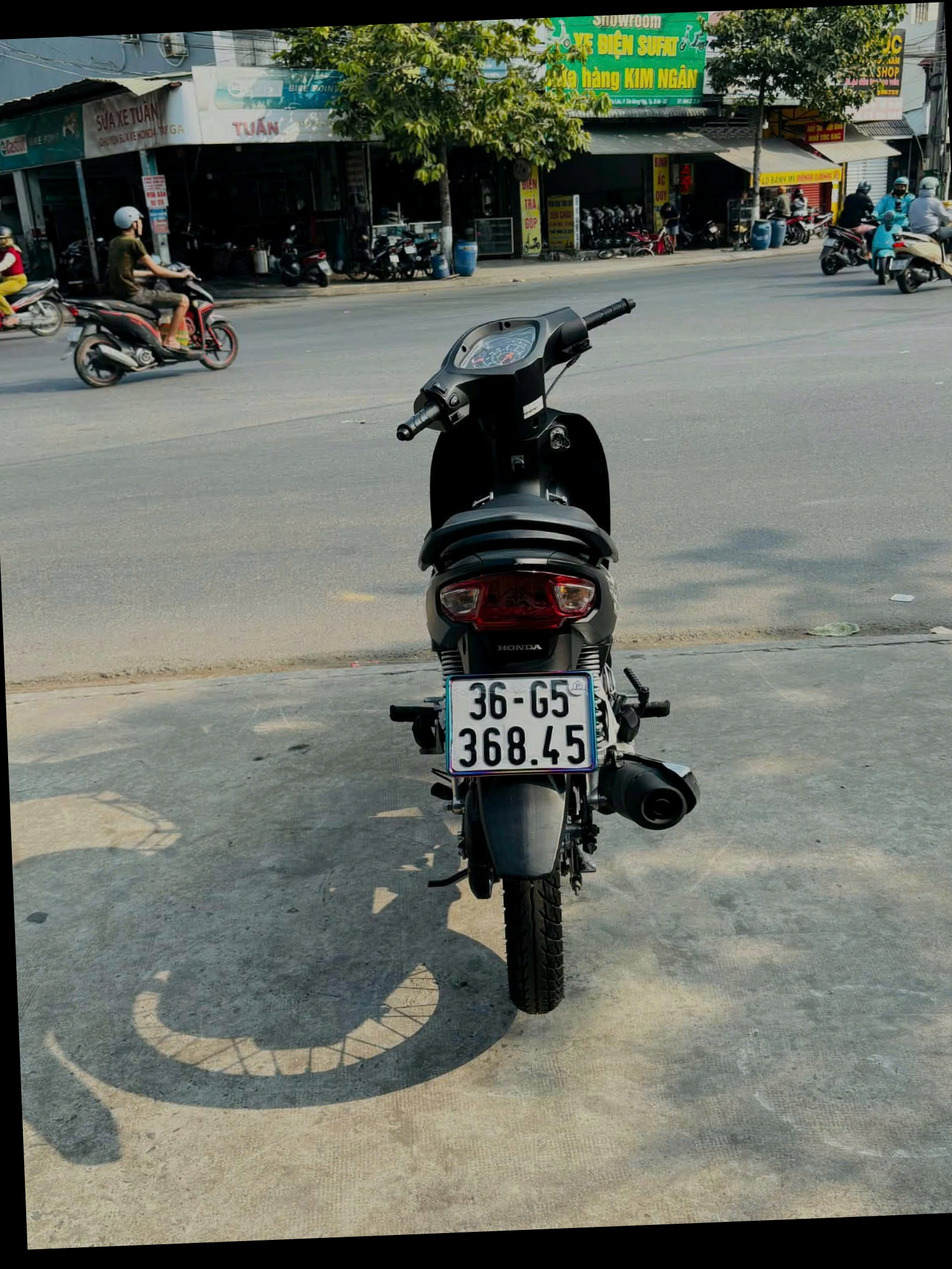Bien-so: (419, 670, 578, 791)
